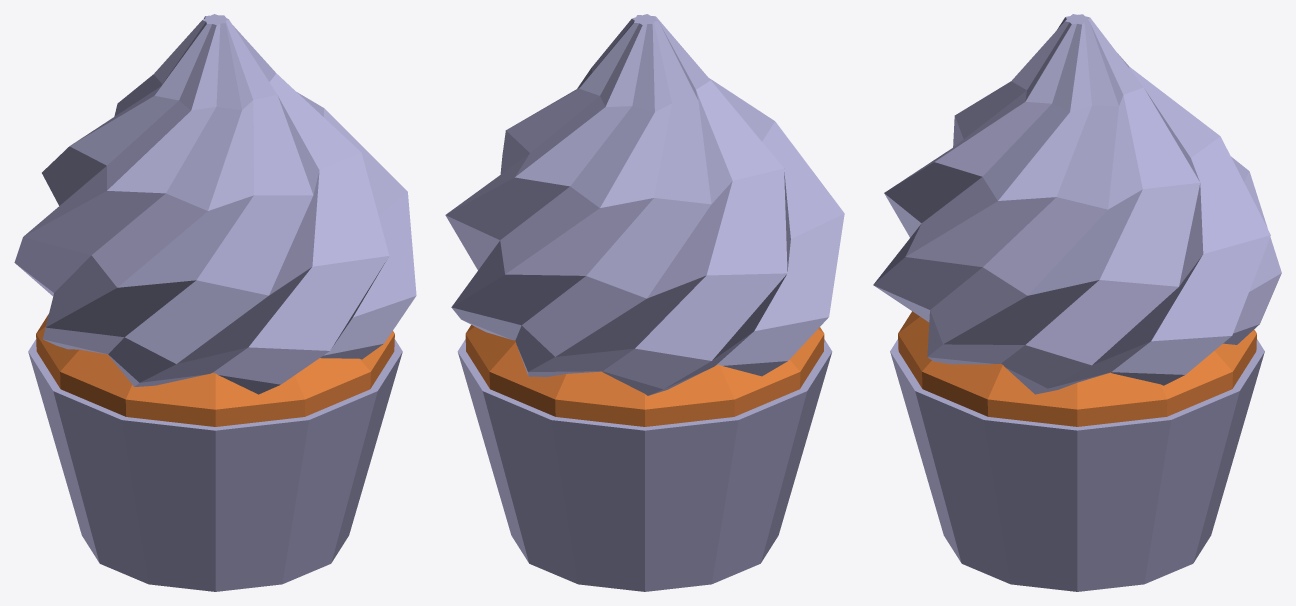
File: CandylandCupcake_07.fbx
3 views of the same model, side by side, from view 1: azimuth 30°, elevation 25°; view 2: azimuth 150°, elevation 25°; view 3: azimuth 270°, elevation 25° (orthographic).
Visible parts, largest first — view 1: CandylandCupcake_07; view 2: CandylandCupcake_07; view 3: CandylandCupcake_07.
Part boxes in pixels (bbox=[...]): CandylandCupcake_07: bbox=[14, 14, 416, 591]; CandylandCupcake_07: bbox=[445, 14, 844, 591]; CandylandCupcake_07: bbox=[873, 14, 1281, 591].
Size of the model in its own units: 0.4944 by 0.6887 by 0.4944.
